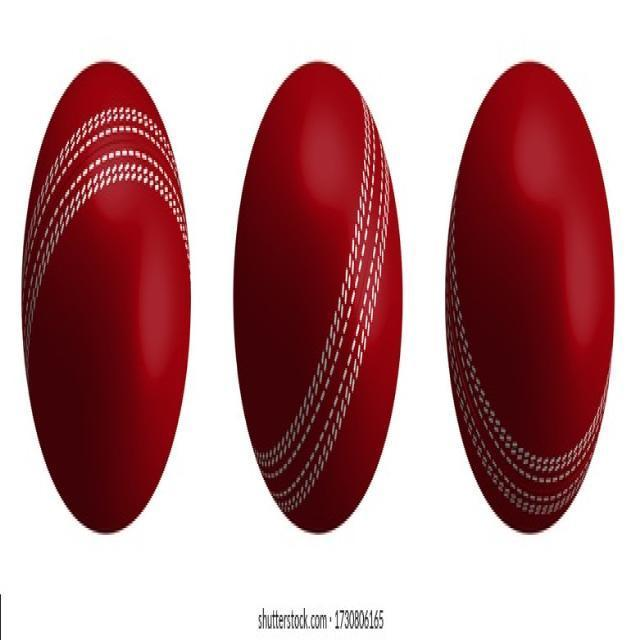cricket ball: (445, 61, 615, 536), (233, 61, 403, 535), (21, 62, 191, 534)
